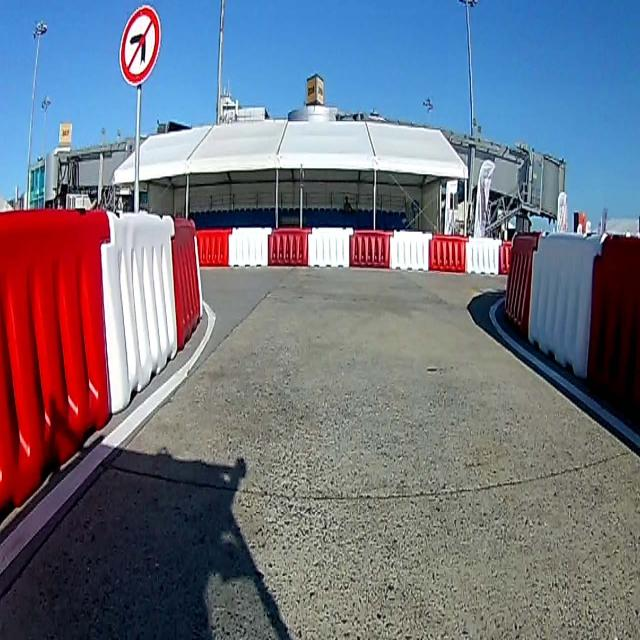soladonulmez: (119, 7, 160, 78)
